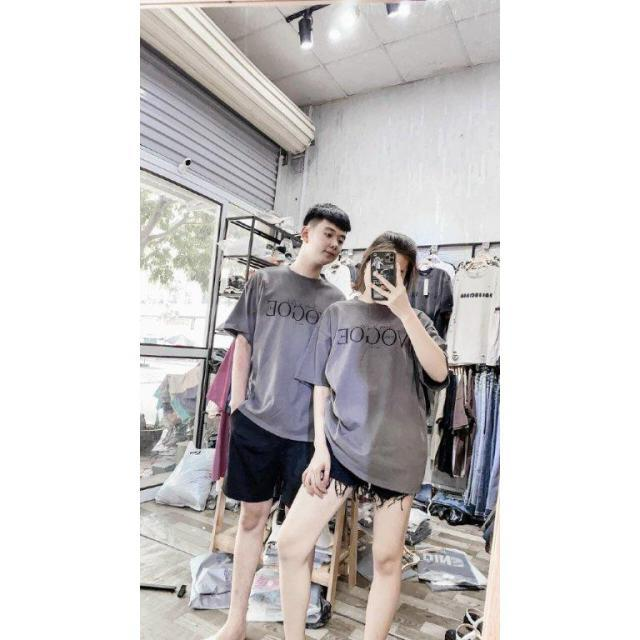Shirt: (296, 296, 455, 497), (220, 265, 351, 444), (446, 260, 502, 370)
